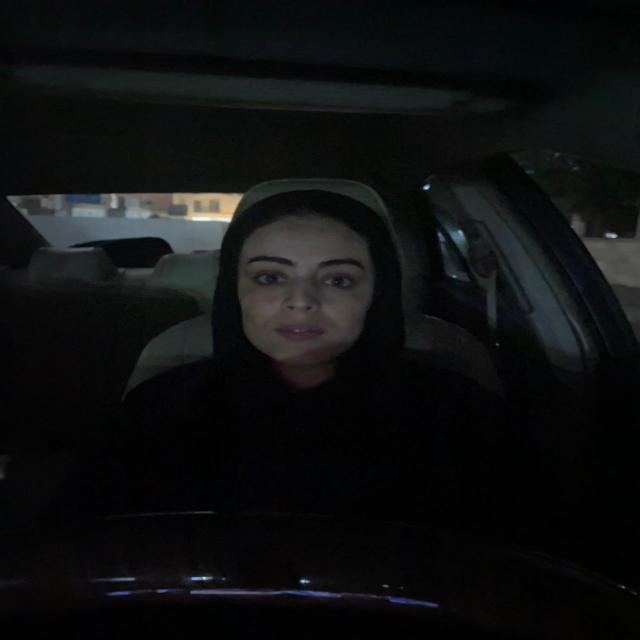person: (215, 185, 396, 373)
